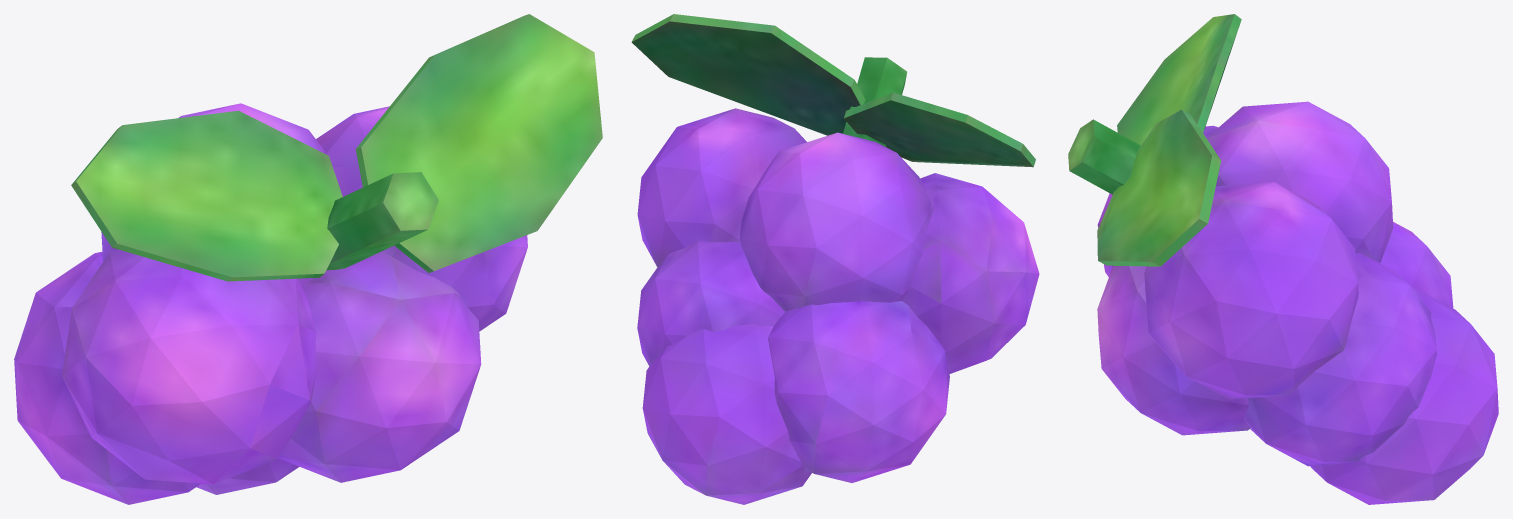
The model's file is grape.glb.
3 renders of one model, left to right at view 1: azimuth 30°, elevation 25°; view 2: azimuth 150°, elevation 25°; view 3: azimuth 270°, elevation 25°, orthographic. The views are drawn at different scales.
Visible parts, largest first — view 1: grapeMesh; view 2: grapeMesh; view 3: grapeMesh.
Boxes of the visible parts, x1=… form: grapeMesh: x1=14, y1=14, x2=602, y2=504; grapeMesh: x1=631, y1=14, x2=1039, y2=504; grapeMesh: x1=1068, y1=14, x2=1498, y2=504.
Bounding box in the file's own units: 0.7828 × 0.7228 × 0.6744.
1 material, 1 textured.
